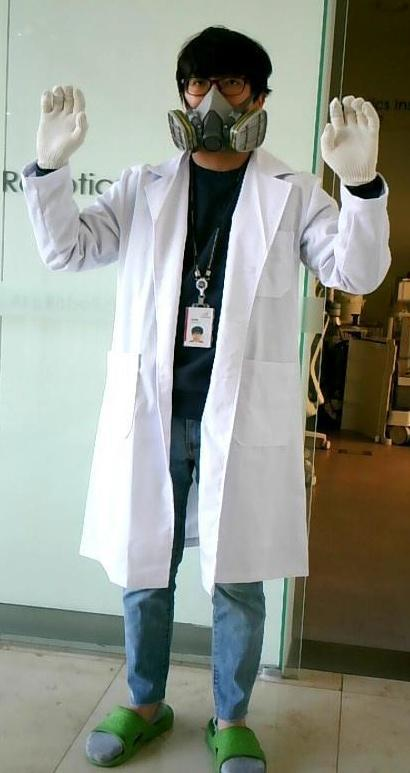lab_coat: (87, 177, 332, 565)
